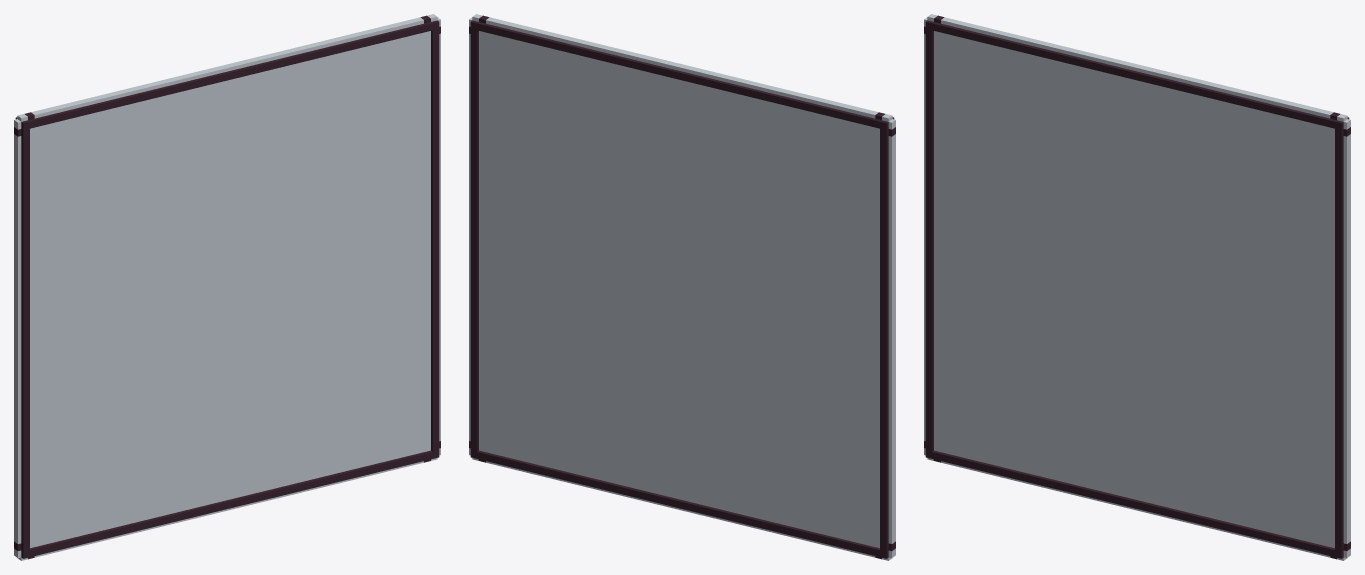
File: Table Top.fbx
The picture shows the model from 3 angles, left to right: view 1: azimuth 30°, elevation 25°; view 2: azimuth 150°, elevation 25°; view 3: azimuth 330°, elevation 25°; orthographic projection.
Parts seen in each view (by area): view 1: generated; view 2: generated; view 3: generated.
Boxes of the visible parts, x1=… form: generated: x1=14, y1=14, x2=440, y2=560; generated: x1=469, y1=14, x2=895, y2=560; generated: x1=924, y1=14, x2=1350, y2=560.
Bounding box in the file's own units: 2520 × 2520 × 80.
